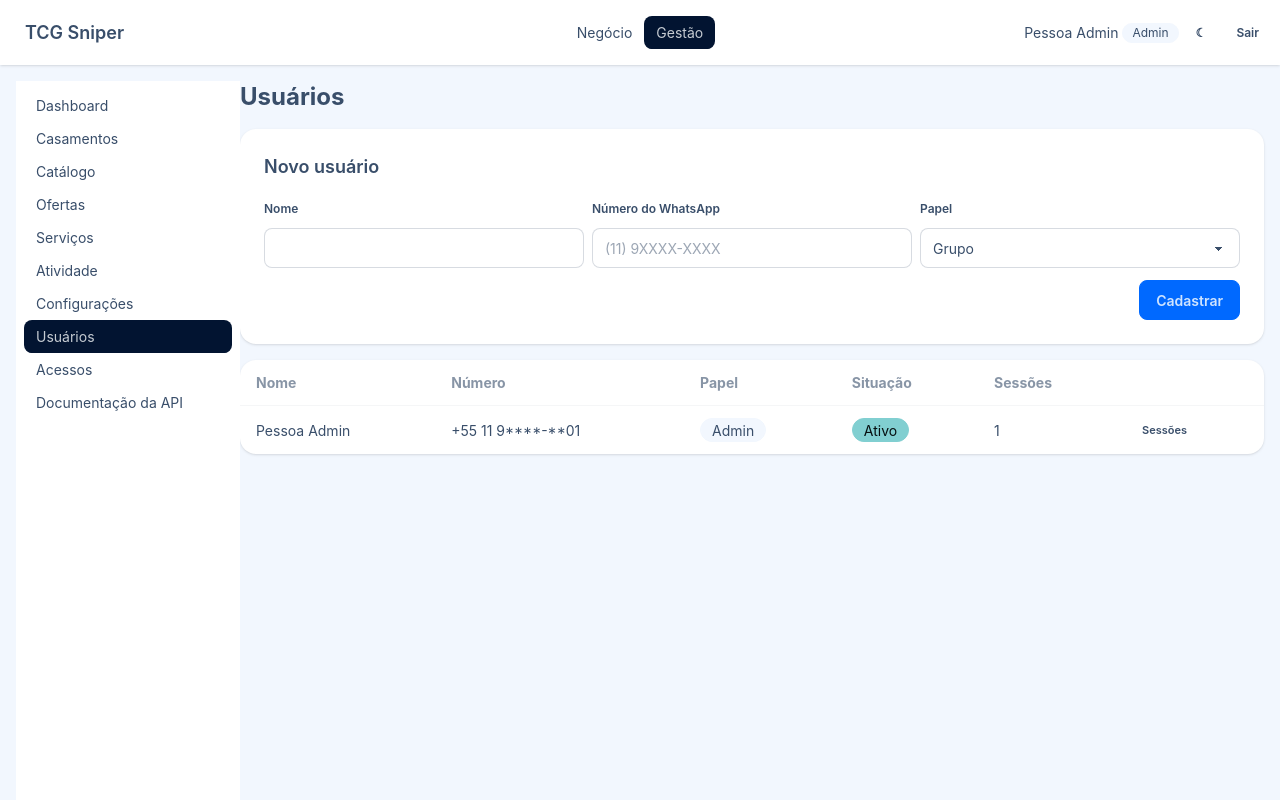
Test: Gestão → Usuários › erro da API aparece (ex.: número já cadastrado)
The width and height of the screenshot is (1280, 800).
Type "Outra" into the field labelled "Nome" at (424, 248), box [264,228,584,268]
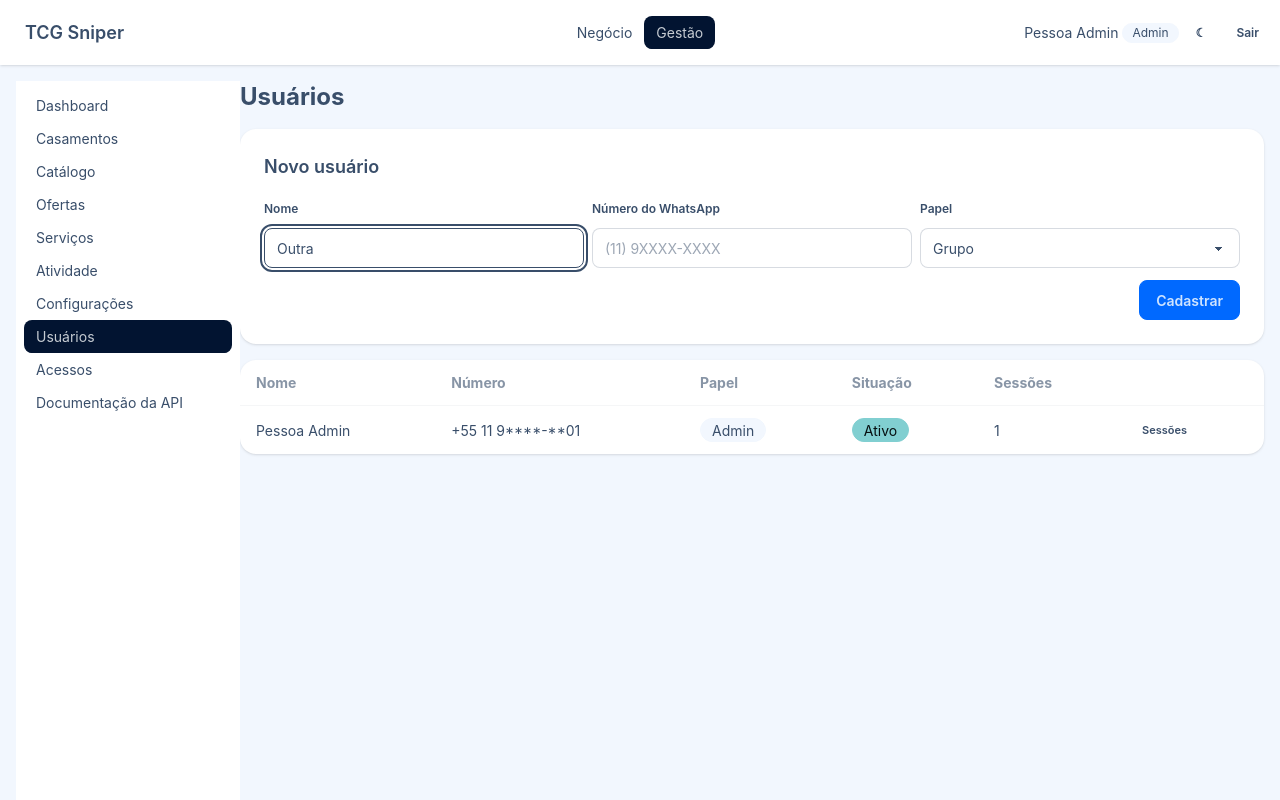
Type "11 90000-0001" into the field labelled "Número do WhatsApp" at (752, 248), box [592,228,912,268]
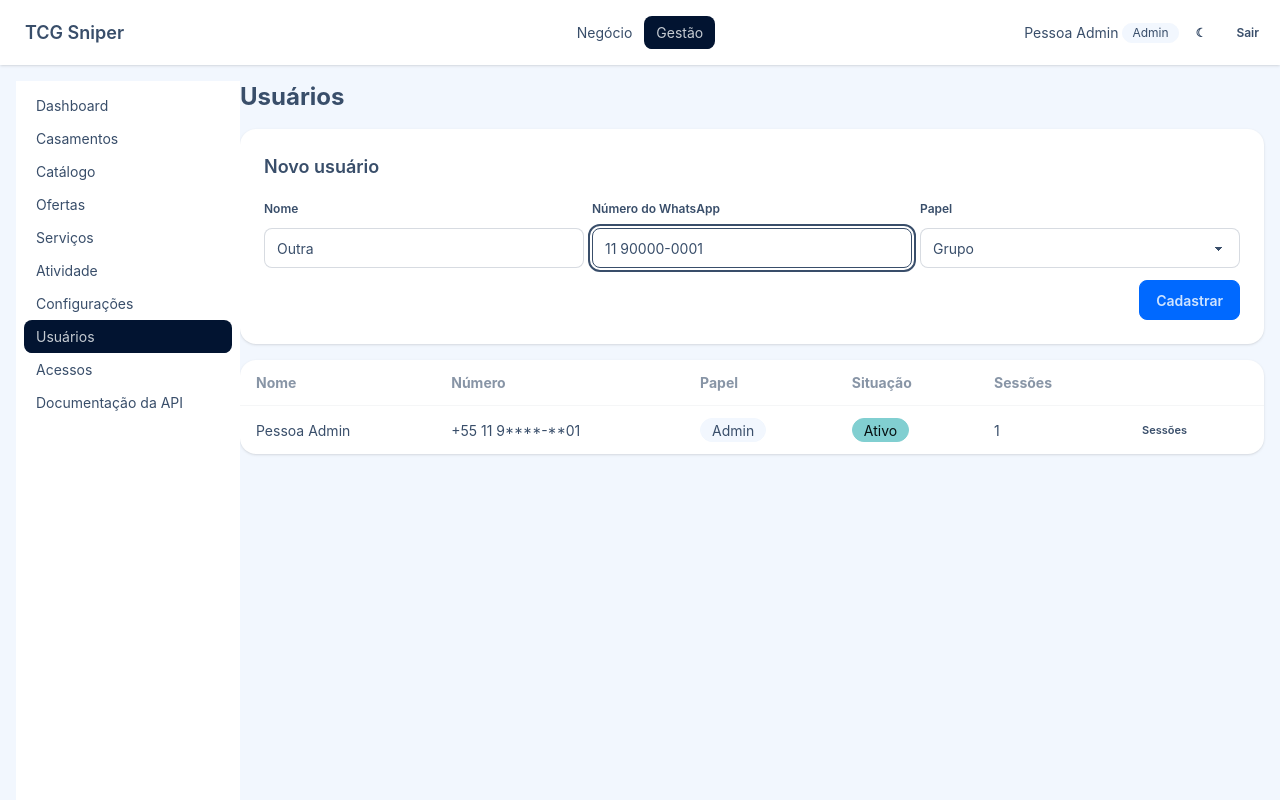
Click the button "Cadastrar" at (1190, 300), box [1139,280,1240,320]
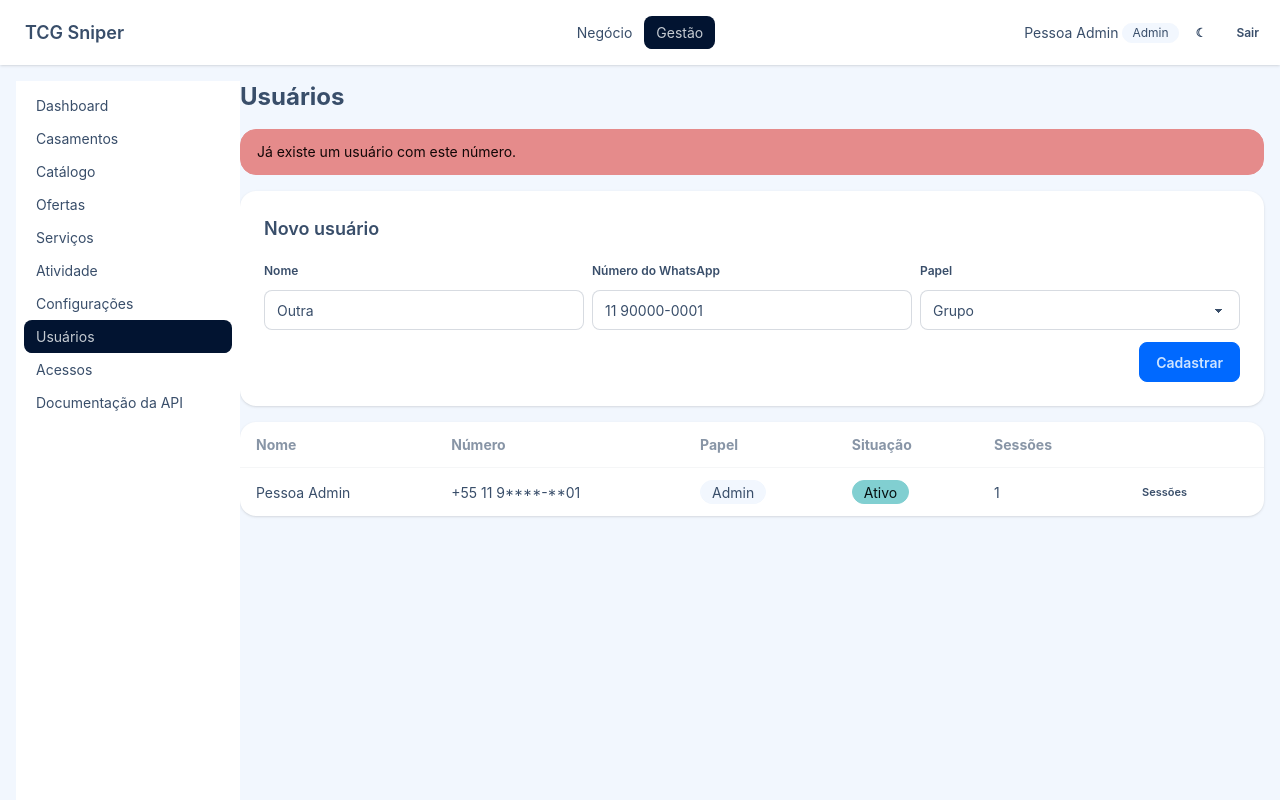
Now the message reads "Já existe um usuário com este número.", box [257,143,516,160]
